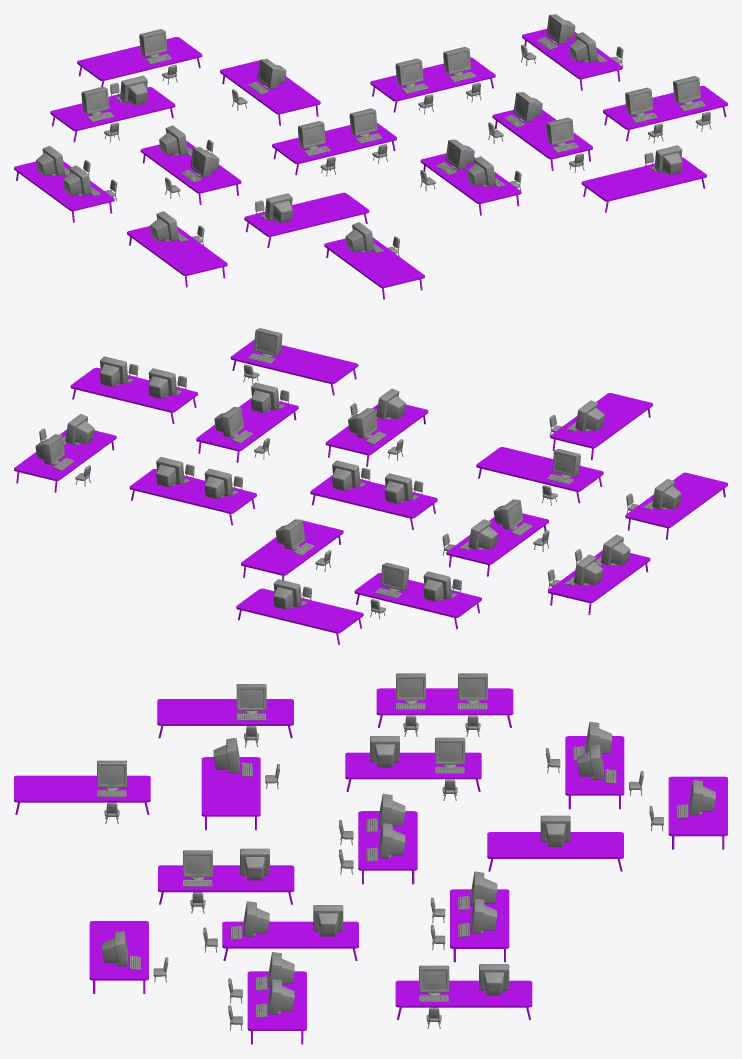
Rendered from _game_jam_hall_01.FBX.
3 views of the same model, one above another, from view 1: azimuth 30°, elevation 25°; view 2: azimuth 150°, elevation 25°; view 3: azimuth 270°, elevation 25° (orthographic). The views are drawn at different scales.
Parts seen in each view (by area): view 1: table_004, desk_main_002, desk_main_012, desk_main_007, desk_main_011, desk_main_016, desk_main_006, desk_main_017, desk_main_003, desk_main_005, desk_main_010, desk_main_018 (+13 smaller); view 2: table_004, desk_main_008, desk_main_015, desk_main_023, desk_main_014, desk_main_004, desk_main_018, desk_main_010, desk_main_025, desk_main_020, desk_main_013, desk_main_022 (+13 smaller); view 3: table_004, desk_main_019, desk_main_013, desk_main_022, desk_main_021, desk_main_020, desk_main_024, desk_main_009, desk_main_003, desk_main_008, desk_main_005, desk_main_015 (+13 smaller).
Boxes of the visible parts, <box> form: table_004: <box>14,29,727,299</box>; desk_main_002: <box>395,58,433,114</box>; desk_main_012: <box>298,121,336,176</box>; desk_main_007: <box>673,76,711,131</box>; desk_main_011: <box>349,108,387,164</box>; desk_main_016: <box>81,86,119,142</box>; desk_main_006: <box>625,87,663,143</box>; desk_main_017: <box>139,29,177,84</box>; desk_main_003: <box>443,47,481,102</box>; desk_main_005: <box>546,117,584,172</box>; desk_main_010: <box>420,139,474,191</box>; desk_main_018: <box>521,14,575,65</box>; table_004: <box>14,339,727,644</box>; desk_main_008: <box>243,328,282,384</box>; desk_main_015: <box>370,562,409,619</box>; desk_main_023: <box>542,449,580,505</box>; desk_main_014: <box>493,499,549,552</box>; desk_main_004: <box>214,407,269,459</box>; desk_main_018: <box>35,434,90,486</box>; desk_main_010: <box>348,408,403,460</box>; desk_main_025: <box>275,519,331,571</box>; desk_main_020: <box>547,554,603,589</box>; desk_main_013: <box>442,519,497,557</box>; desk_main_022: <box>626,479,681,513</box>; table_004: <box>14,688,727,1044</box>; desk_main_019: <box>419,965,449,1028</box>; desk_main_013: <box>435,737,465,800</box>; desk_main_022: <box>236,684,266,747</box>; desk_main_021: <box>396,673,425,736</box>; desk_main_020: <box>458,673,487,736</box>; desk_main_024: <box>97,760,126,823</box>; desk_main_009: <box>183,850,212,913</box>; desk_main_003: <box>430,898,497,949</box>; desk_main_008: <box>102,931,168,982</box>; desk_main_005: <box>203,901,269,952</box>; desk_main_015: <box>577,744,643,796</box>.
Bounding box in the file's own units: 2137 × 125 × 1892.
